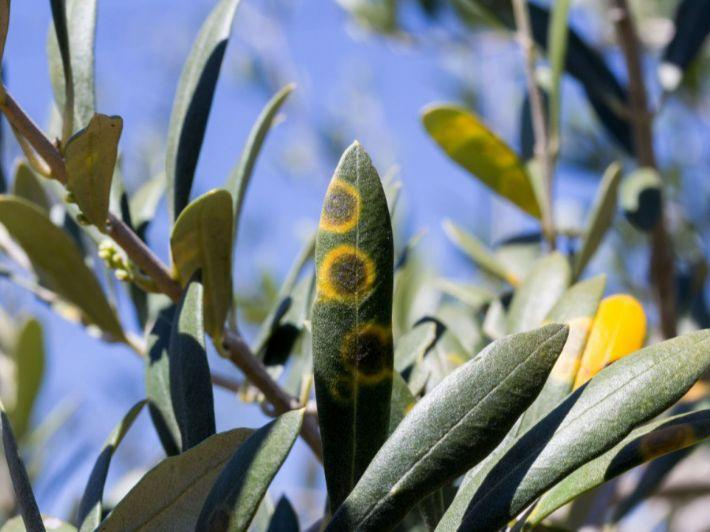OlivePeacockSpot: (307, 136, 398, 498)
